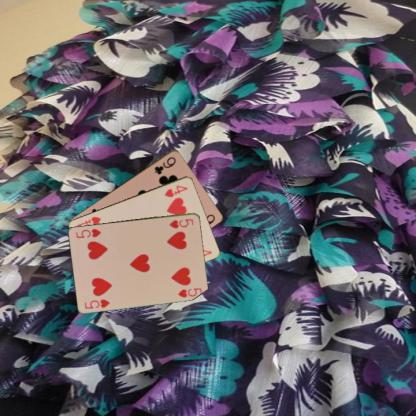4h: (162, 183, 189, 198)
5h: (82, 296, 111, 310), (167, 216, 195, 229)
9c: (152, 154, 177, 176)
